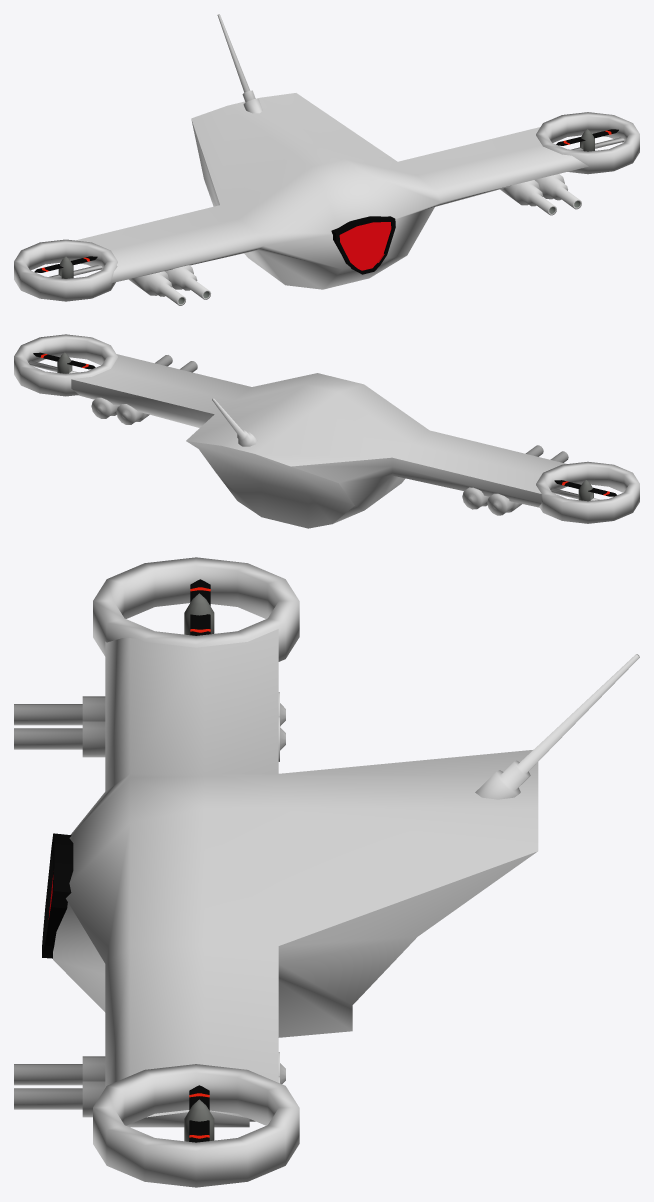
Rendered from Enemy4.fbx.
3 renders of one model, top to bottom at view 1: azimuth 30°, elevation 25°; view 2: azimuth 150°, elevation 25°; view 3: azimuth 270°, elevation 25°, orthographic. The views are drawn at different scales.
Visible parts, largest first — view 1: CarcaçaInimigo2; view 2: CarcaçaInimigo2; view 3: CarcaçaInimigo2.
Boxes of the visible parts, bbox=[...] form: CarcaçaInimigo2: bbox=[14, 14, 639, 305]; CarcaçaInimigo2: bbox=[14, 334, 639, 528]; CarcaçaInimigo2: bbox=[14, 557, 639, 1187].
Bounding box in the file's own units: 825 × 228 × 367.
